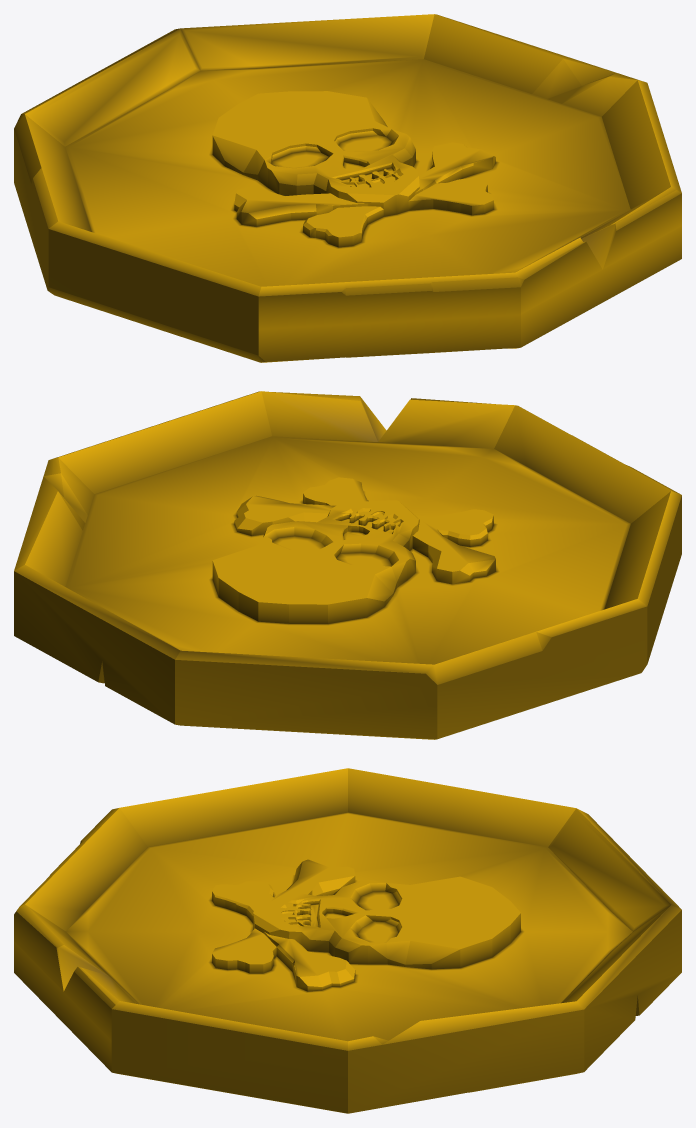
File: coin.fbx
The picture shows the model from 3 angles, top to bottom: view 1: azimuth 30°, elevation 25°; view 2: azimuth 150°, elevation 25°; view 3: azimuth 270°, elevation 25°; orthographic projection. The views are drawn at different scales.
Visible parts, largest first — view 1: Cylinder; view 2: Cylinder; view 3: Cylinder.
Boxes of the visible parts, x1=… form: Cylinder: x1=14, y1=14, x2=681, y2=362; Cylinder: x1=14, y1=391, x2=681, y2=739; Cylinder: x1=14, y1=768, x2=681, y2=1113.
Size of the model in its own units: 2 by 0.2509 by 2.
